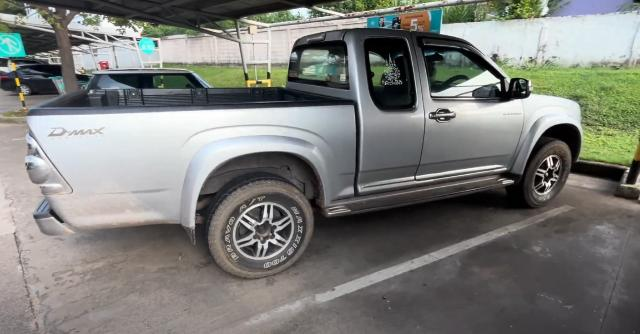pickup-truck: (22, 27, 585, 277)
